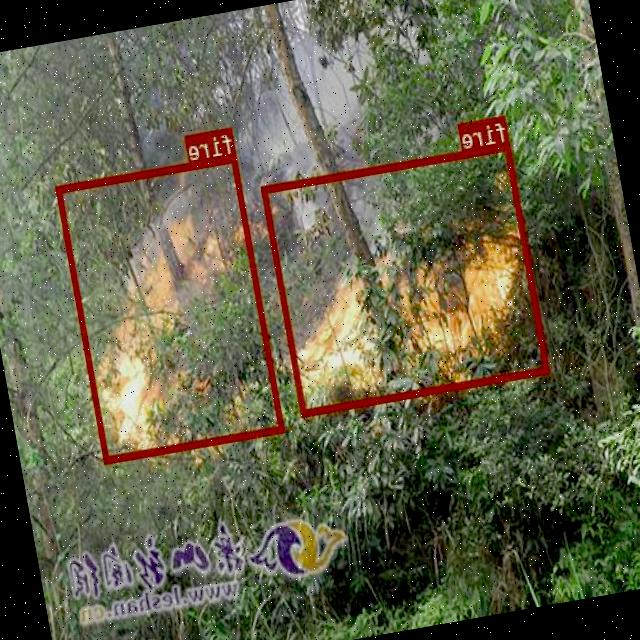fire: (262, 142, 551, 416), (56, 152, 286, 462)
